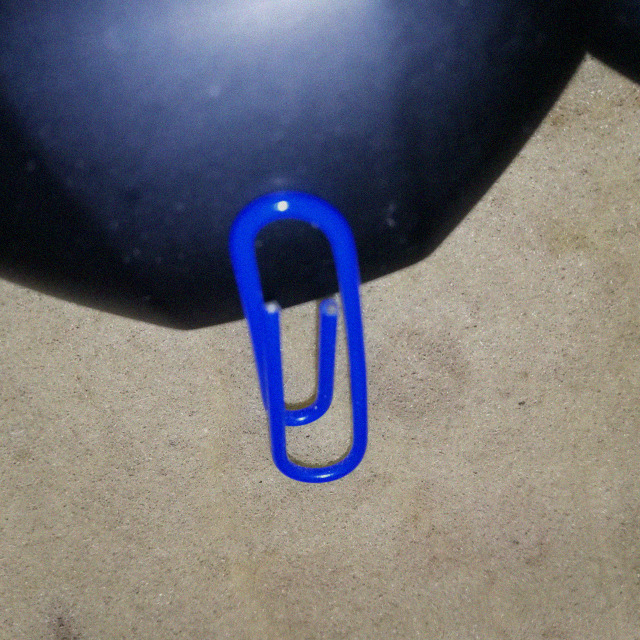pin: (217, 184, 403, 500)
